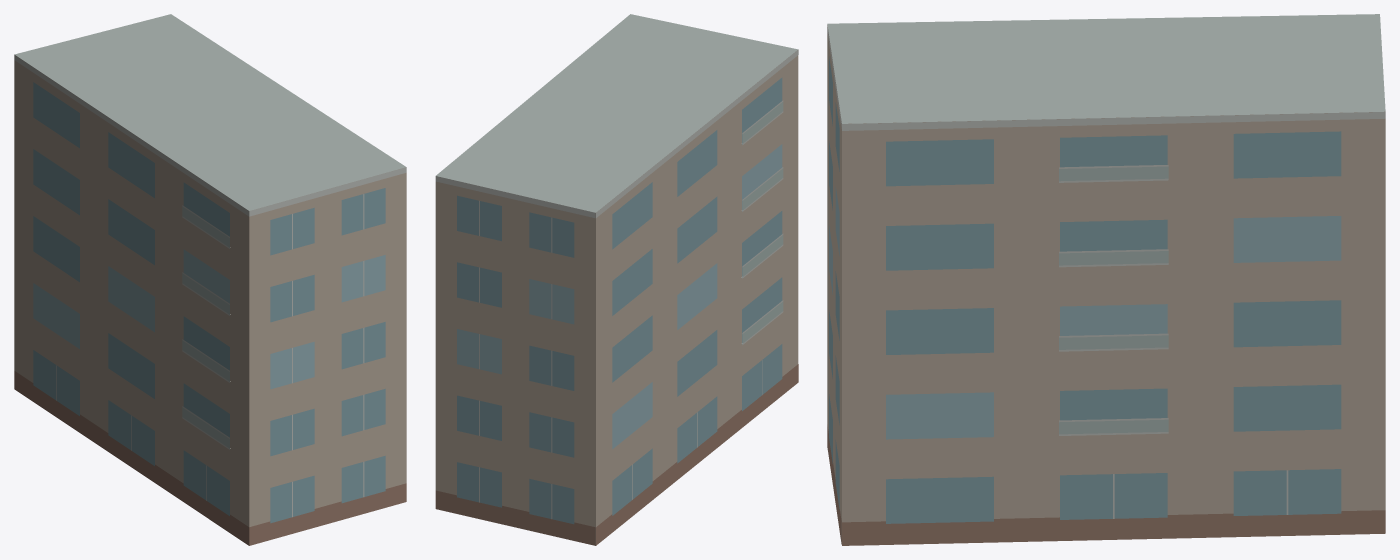
File: survey-upis-32670516.glb
3 views of the same model, side by side, from view 1: azimuth 30°, elevation 25°; view 2: azimuth 150°, elevation 25°; view 3: azimuth 270°, elevation 25° (orthographic). The views are drawn at different scales.
Parts seen in each view (by area): view 1: survey-upis-32670516.tmp; view 2: survey-upis-32670516.tmp; view 3: survey-upis-32670516.tmp.
Part boxes in pixels (box(x1,y1,x2,y2)): survey-upis-32670516.tmp: box(14, 14, 406, 545); survey-upis-32670516.tmp: box(435, 14, 798, 545); survey-upis-32670516.tmp: box(827, 14, 1385, 545).
Bounding box in the file's own units: 8.17 × 14.6 × 17.52.
